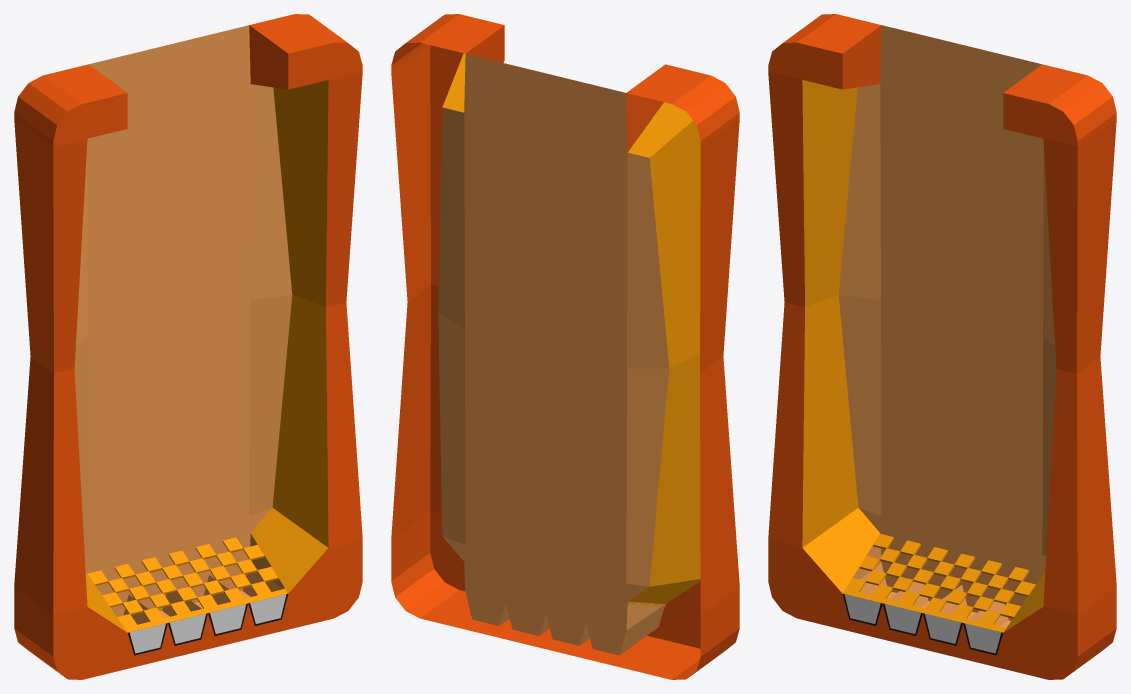
Rendered from background_yellow.fbx.
3 views of the same model, side by side, from view 1: azimuth 30°, elevation 25°; view 2: azimuth 150°, elevation 25°; view 3: azimuth 330°, elevation 25° (orthographic).
Parts seen in each view (by area): view 1: background_yellow, grille.yellow; view 2: background_yellow; view 3: background_yellow, grille.yellow.
Part boxes in pixels (x1,y1,x2,y2): background_yellow: [14, 14, 362, 679]; grille.yellow: [88, 537, 287, 632]; background_yellow: [391, 14, 739, 679]; background_yellow: [768, 14, 1116, 679]; grille.yellow: [843, 534, 1035, 632].
Size of the model in its own units: 8.99 by 15.99 by 1.97.
